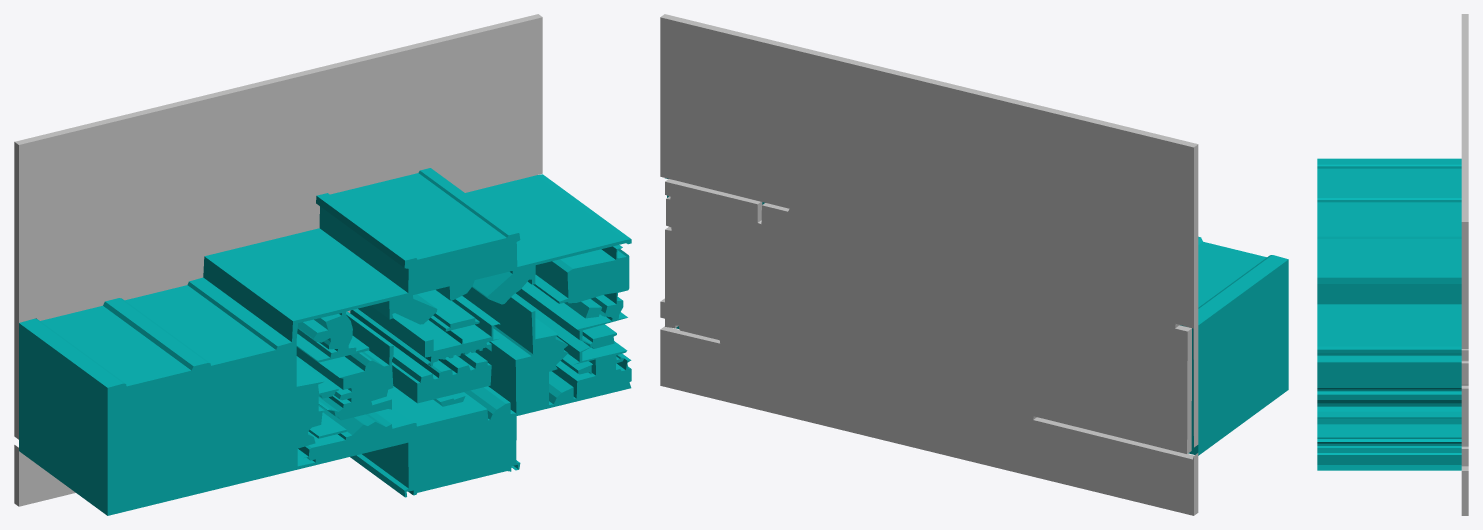
3 views of the same model, side by side, from view 1: azimuth 30°, elevation 25°; view 2: azimuth 150°, elevation 25°; view 3: azimuth 270°, elevation 25° (orthographic). The views are drawn at different scales.
Parts seen in each view (by area): view 1: world; view 2: world; view 3: world.
Boxes of the visible parts, x1,y1,x2,y2 form: world: (14,14,631,515); world: (660,14,1288,515); world: (1317,14,1468,515).
Bounding box in the file's own units: 10.23 × 6.75 × 3.15.
